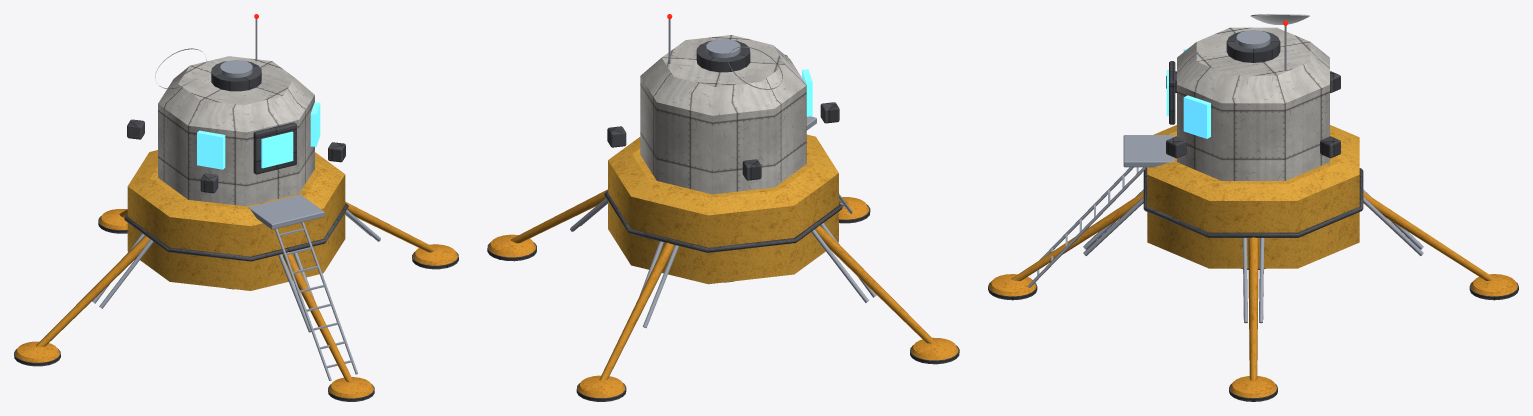
The model's file is Spaceship.glb.
The picture shows the model from 3 angles, left to right: view 1: azimuth 30°, elevation 25°; view 2: azimuth 150°, elevation 25°; view 3: azimuth 270°, elevation 25°; orthographic projection. The views are drawn at different scales.
Parts seen in each view (by area): view 1: Lander_Mesh; view 2: Lander_Mesh; view 3: Lander_Mesh.
Part boxes in pixels (x1,y1,x2,y2): Lander_Mesh: [14, 14, 458, 401]; Lander_Mesh: [487, 14, 959, 401]; Lander_Mesh: [988, 14, 1518, 401].
Size of the model in its own units: 9.92 by 5.92 by 9.92.
9 materials, 5 textured.
